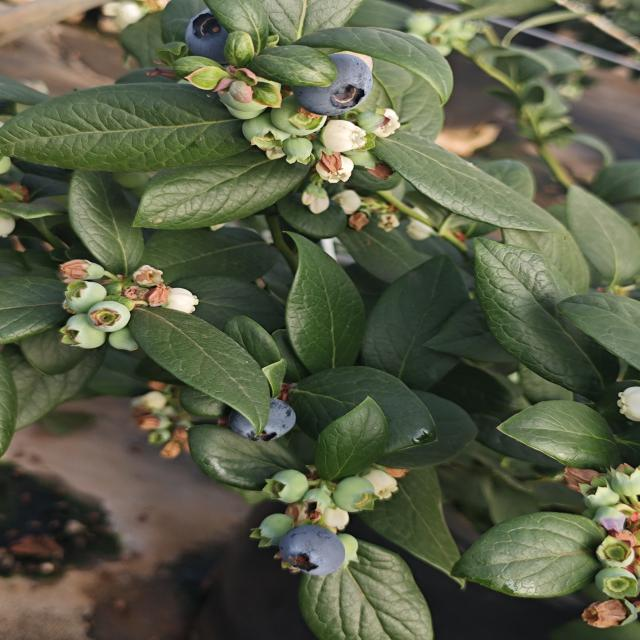ripe: (289, 50, 376, 119), (273, 523, 349, 579), (225, 396, 299, 445), (181, 8, 233, 66)
